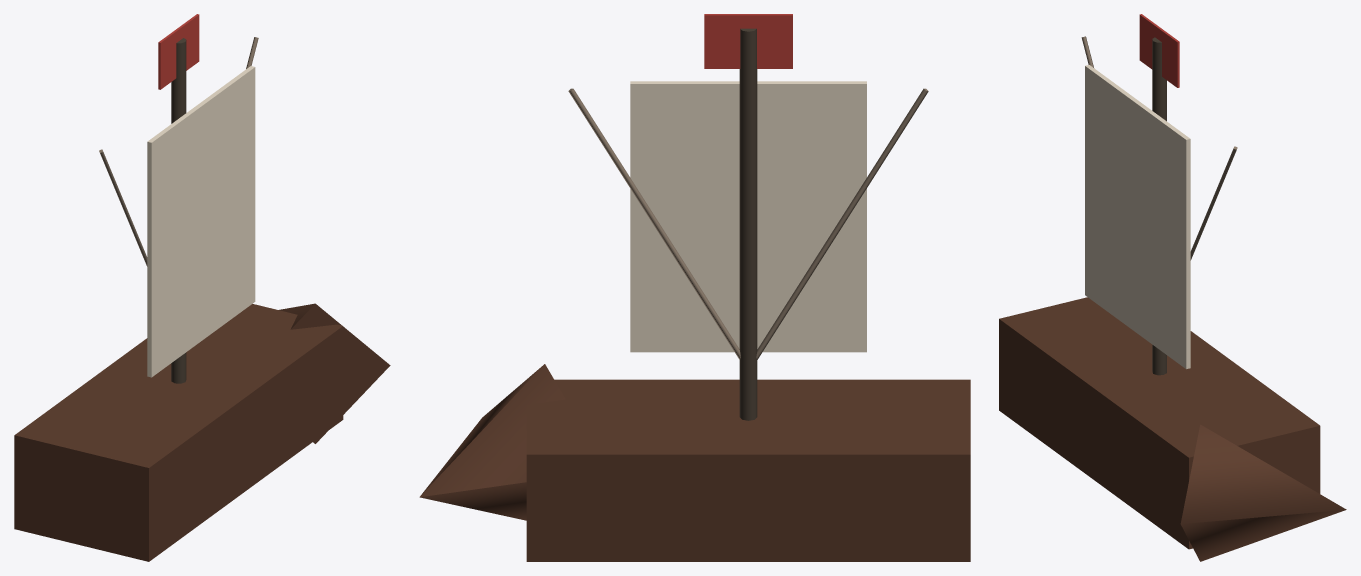
The model's file is ship.glb.
The picture shows the model from 3 angles, left to right: view 1: azimuth 30°, elevation 25°; view 2: azimuth 150°, elevation 25°; view 3: azimuth 270°, elevation 25°; orthographic projection. The views are drawn at different scales.
Bounding box in the file's own units: 1.79 × 2 × 1.37.
